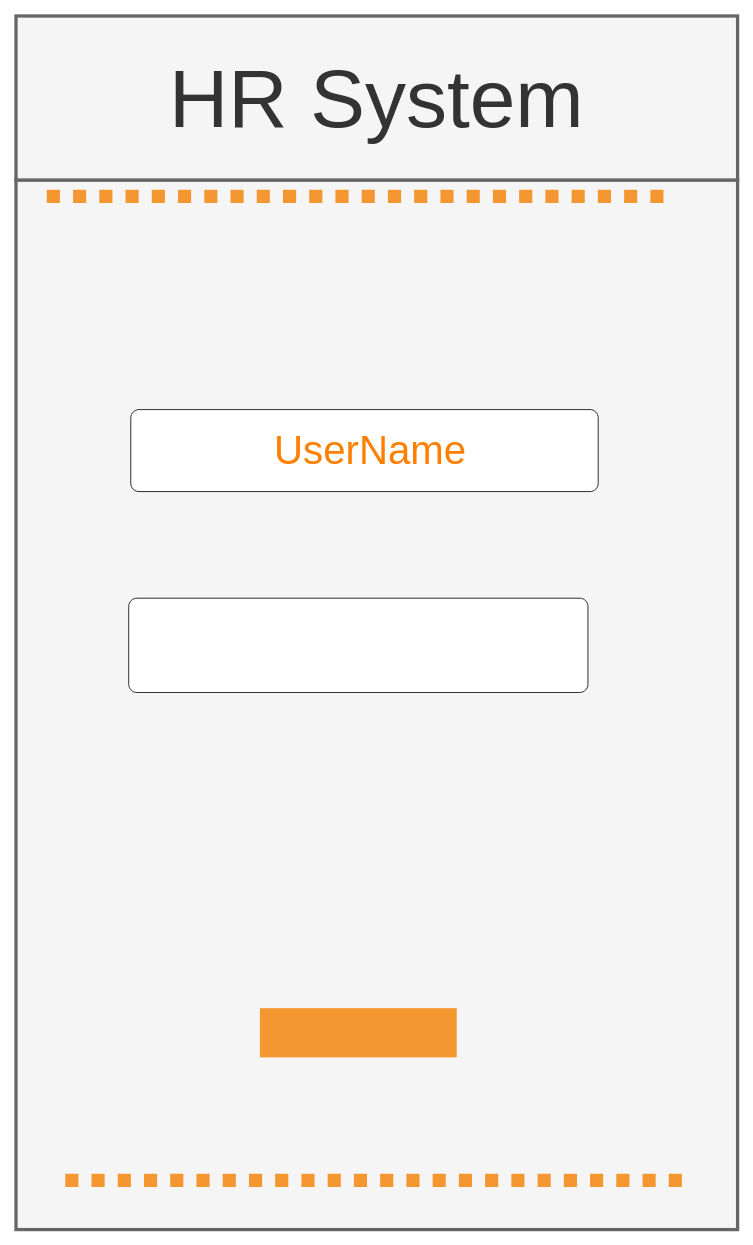
Some shapes in this 753 by 1245 pixel diagram are drawn without their labels. Each missing label, with the centre of its shape:
Login: the point at 358,1032
Password: the point at 358,644
